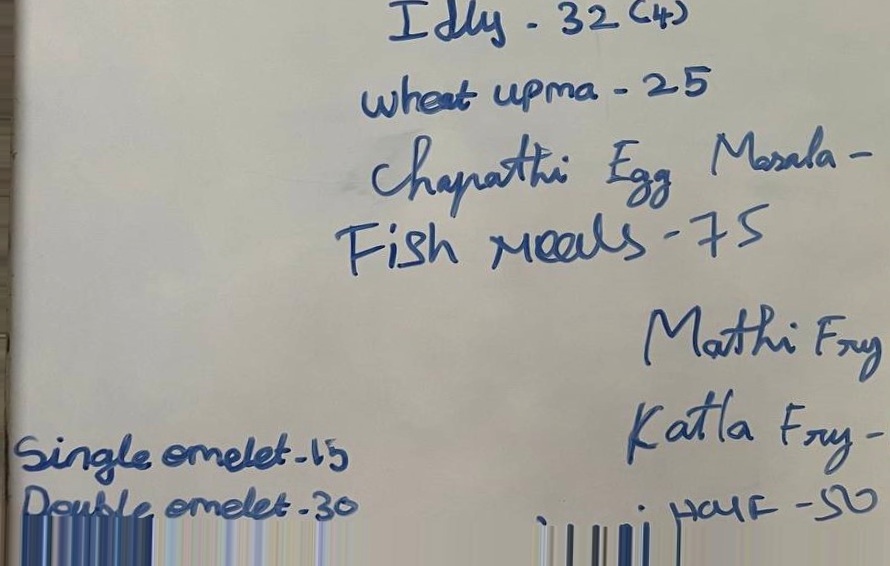chapathi egg masala - 93: (364, 130, 873, 199)
double omelet - 30: (21, 484, 361, 530)
fish Meals - 75: (332, 200, 786, 283)
idly(4) - 32: (381, 2, 695, 51)
katla fry - 60: (625, 394, 887, 473)
mathi fry - 50: (637, 299, 887, 388)
single omelet - 15: (8, 431, 353, 483)
wheat upma - 25: (358, 61, 718, 119)
